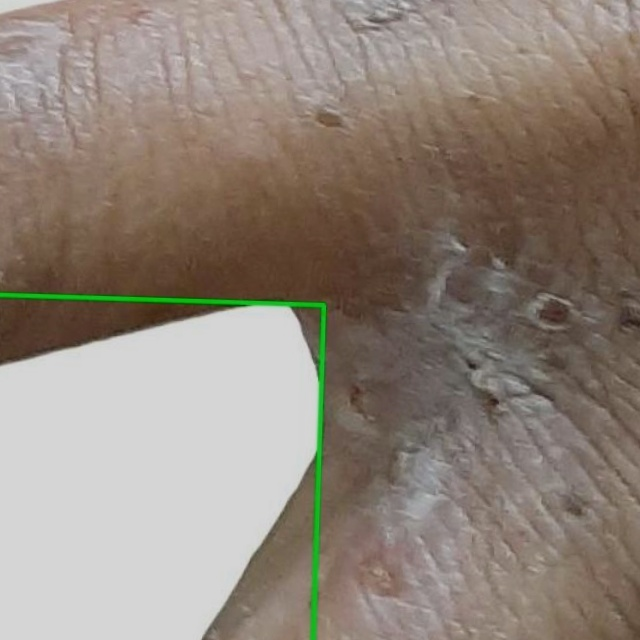Scabies: (0, 294, 325, 639)
